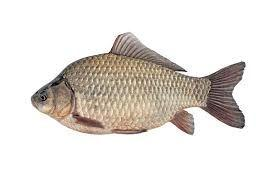Grass Carp: (31, 30, 245, 137)
